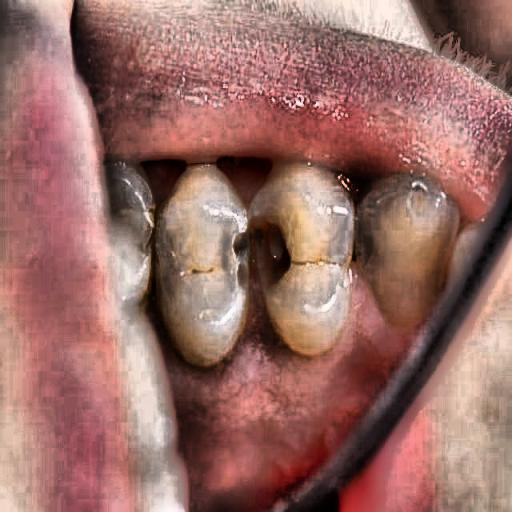Caries: (217, 181, 332, 301)
